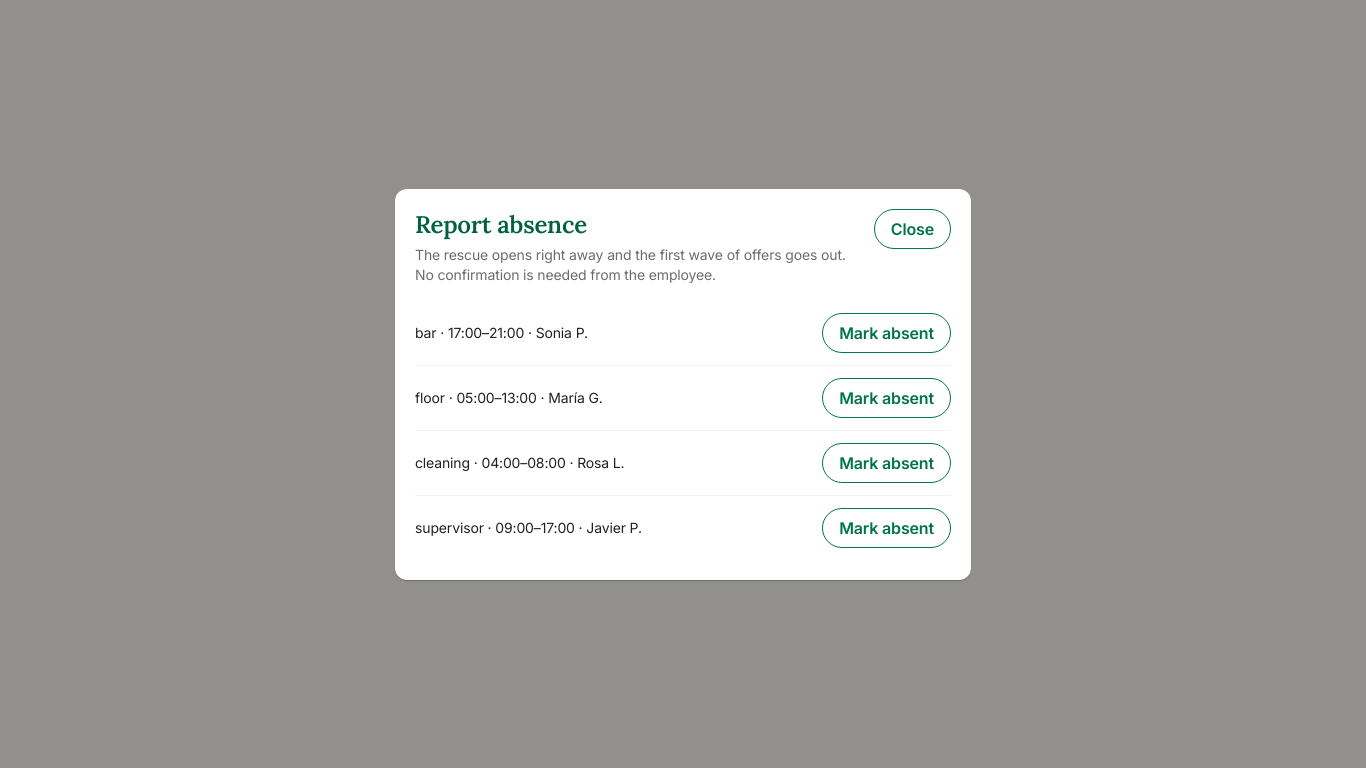
Test: ReportAbsenceDialog › lists the shifts still scheduled and marks the chosen one absent
Click the button "Mark absent" in the row of "bar · 17:00–21:00 · Sonia P.".
click(887, 332)  # box x1=822 y1=312 x2=951 y2=352
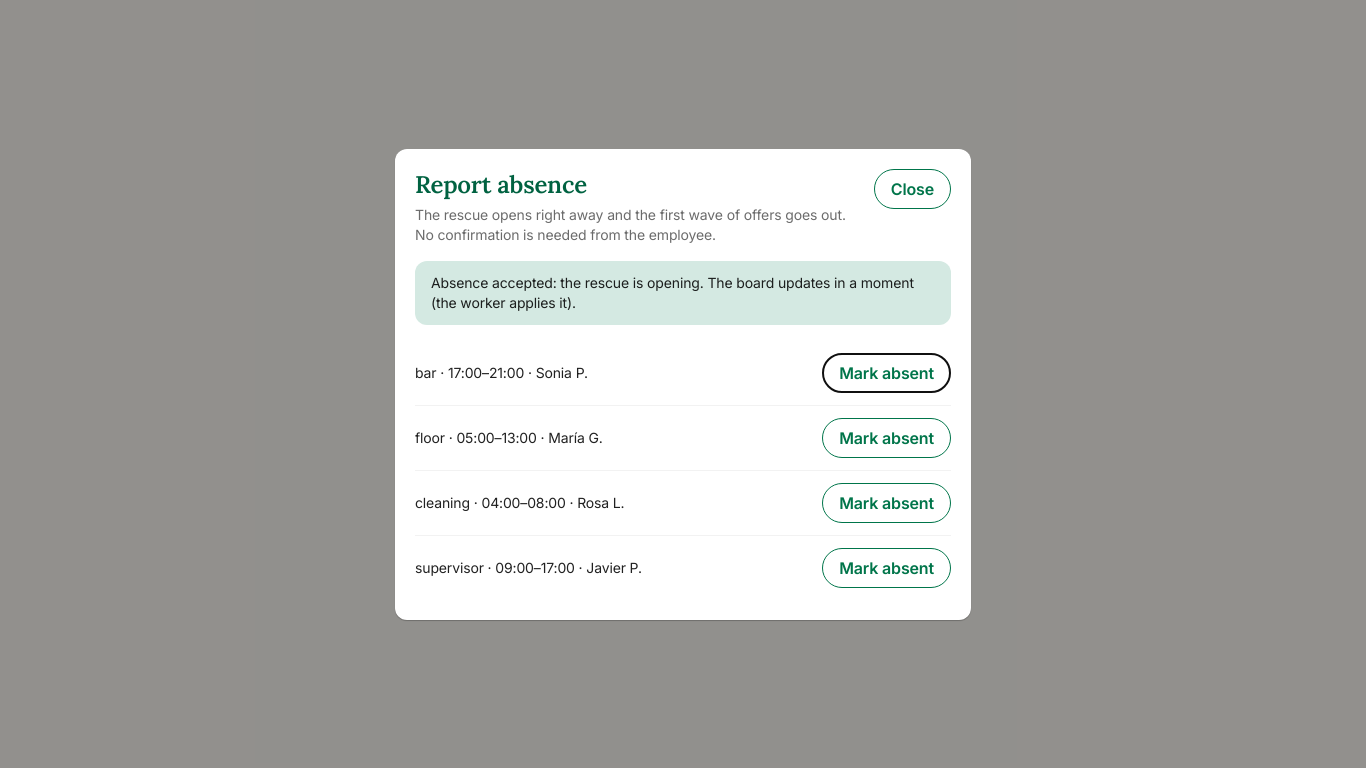
Expected: the text "the rescue is opening" is shown, x1=431 y1=274 x2=914 y2=310
